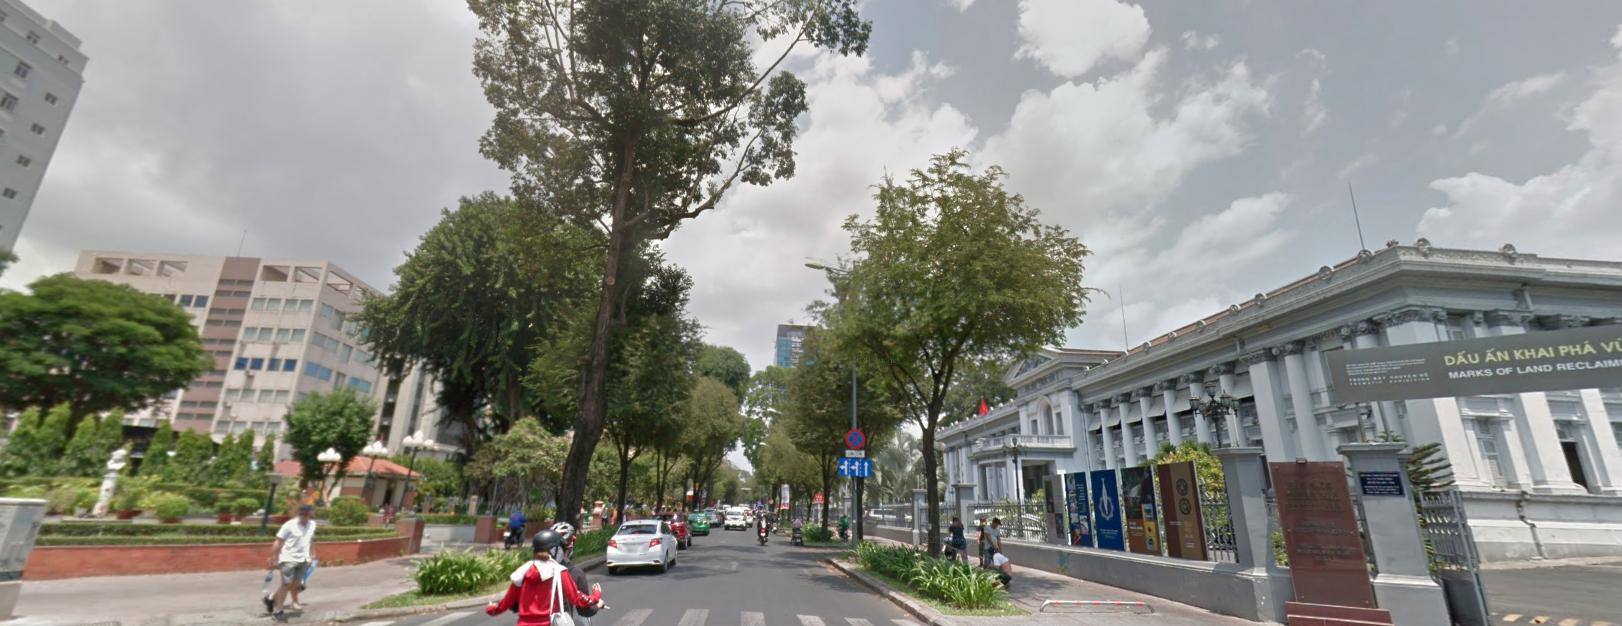Cam dung va do: (843, 427, 868, 453)
